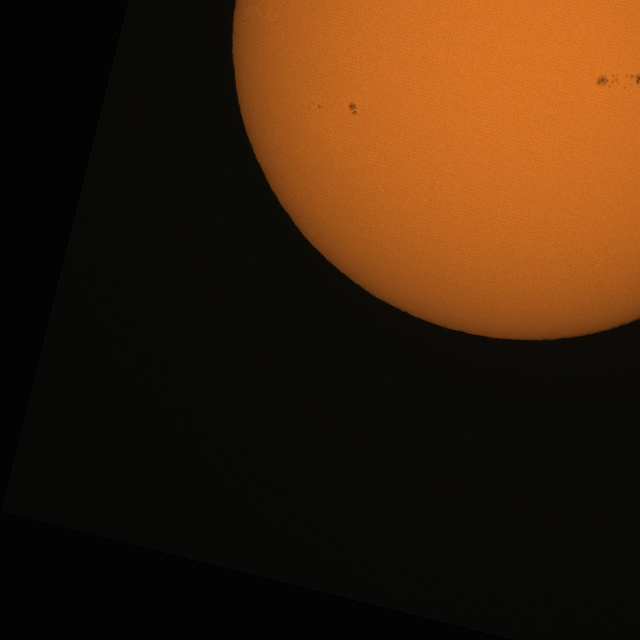sunspot: (592, 70, 640, 93), (594, 72, 618, 89), (623, 73, 640, 90), (348, 101, 358, 116), (313, 101, 325, 111)
